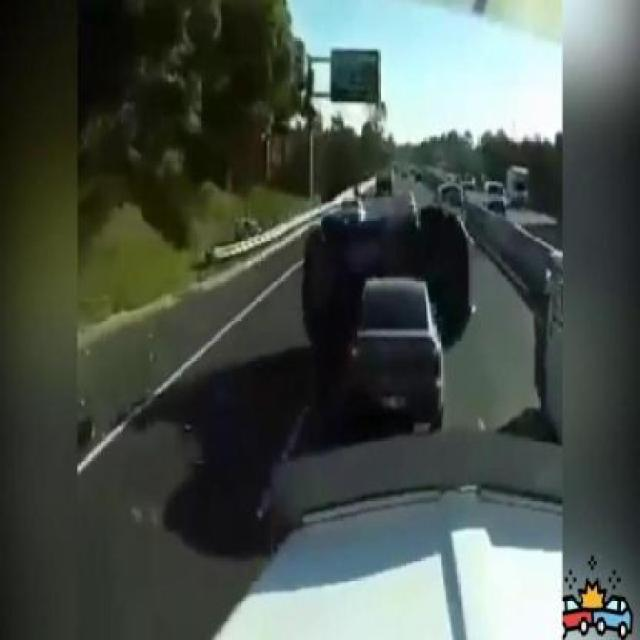accident: (270, 195, 488, 438)
